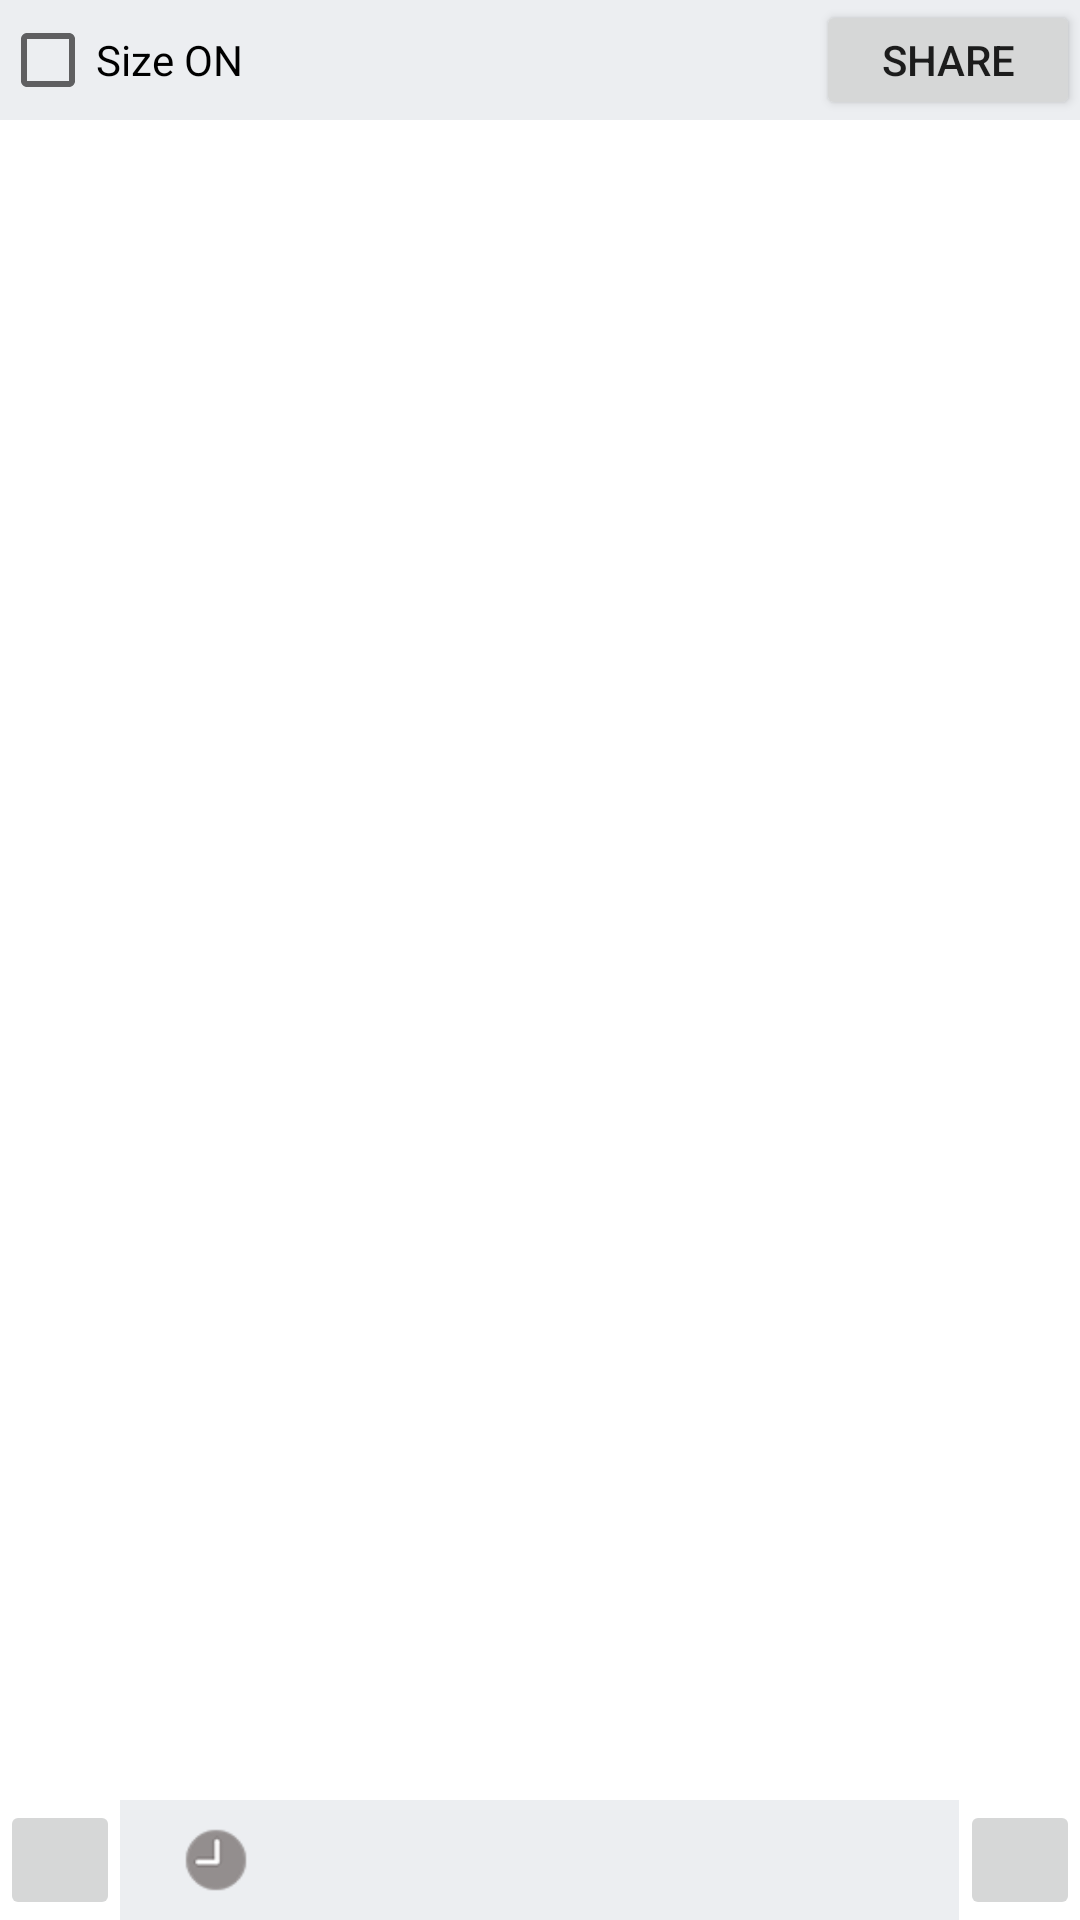

Icon click points for this 1080×1920 phone screenshot, format (x,y):
history: (216,1860)
